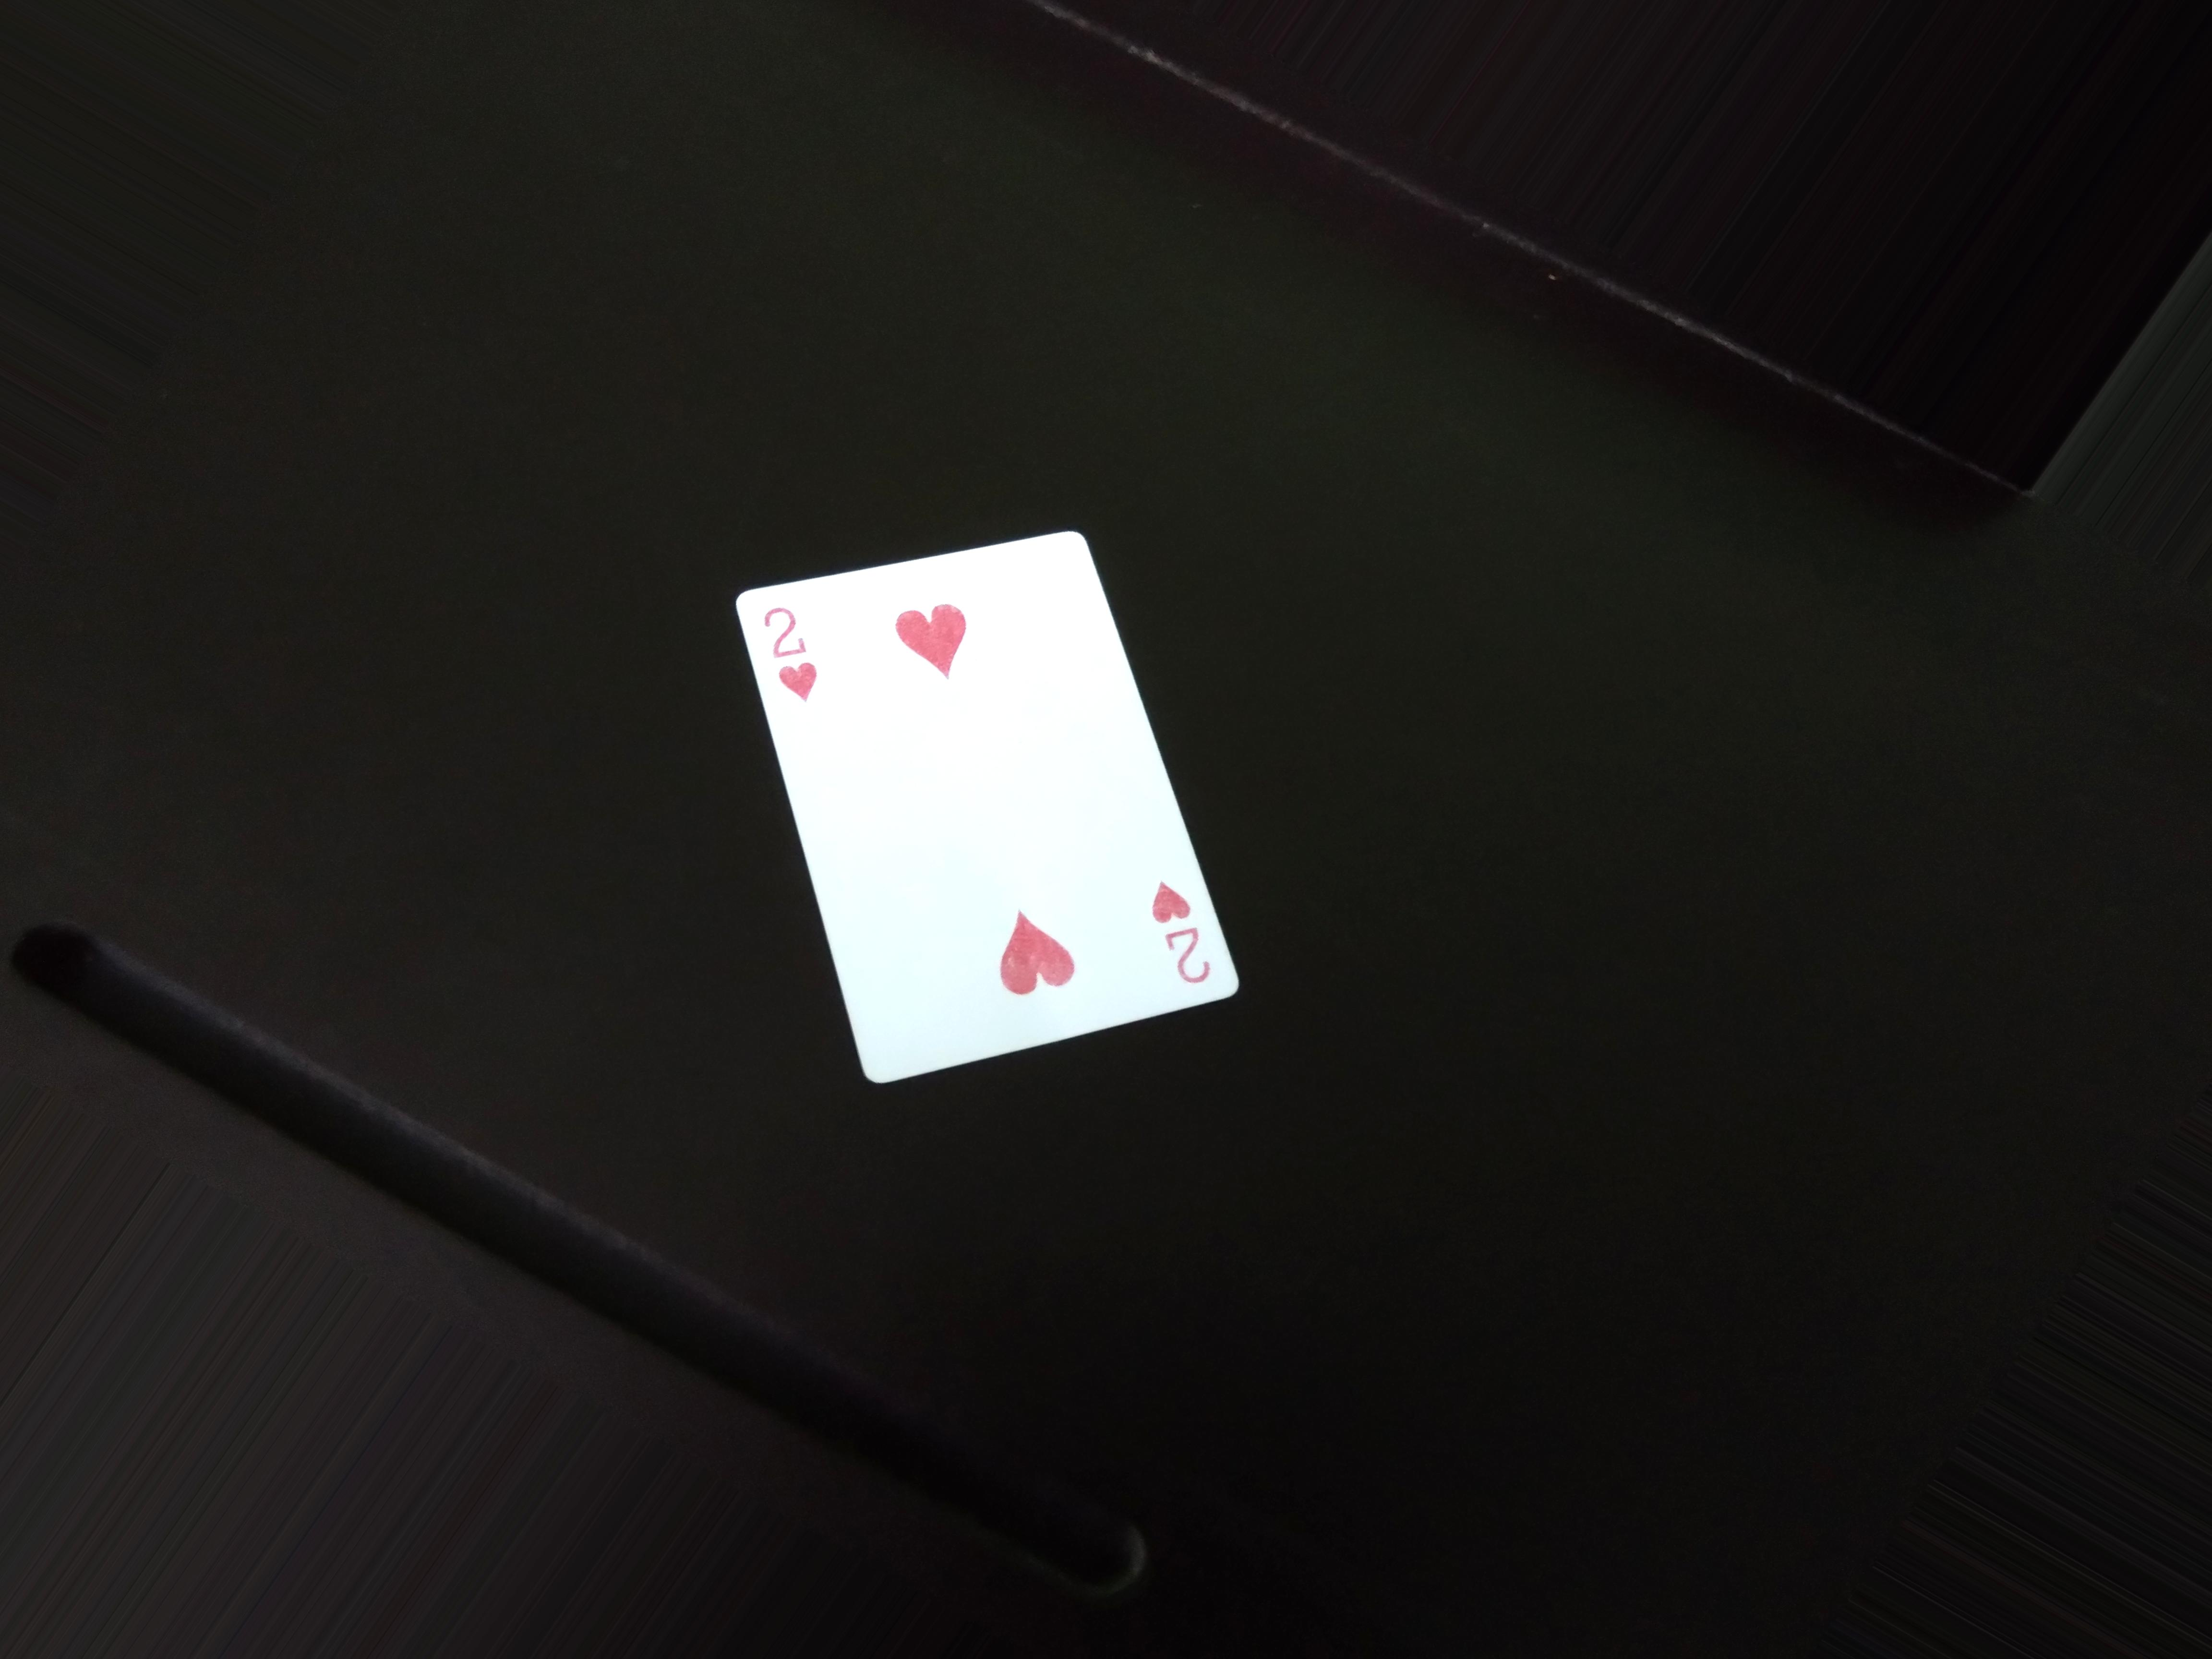2H: (744, 594, 831, 716)
